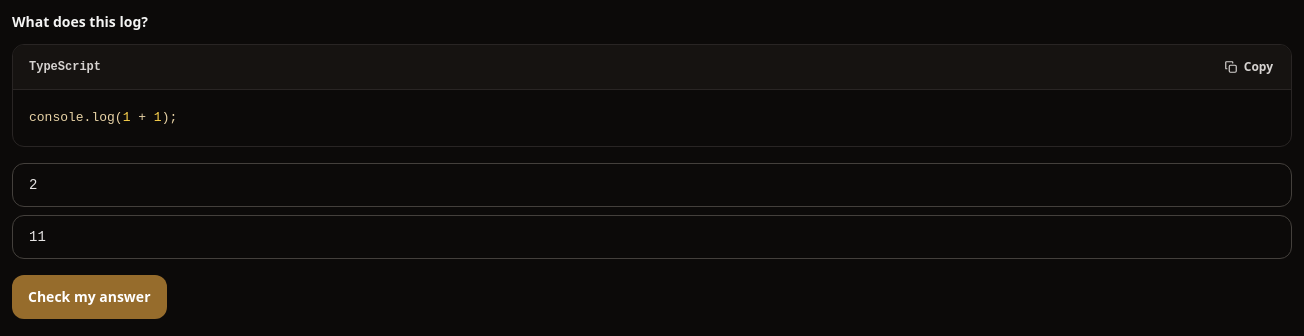
Test case: PredictOutputComponent › clears the "pick an answer" message once something is chosen
Click the button "Check my answer" at coordinates (89, 297), box [12,275,166,319]
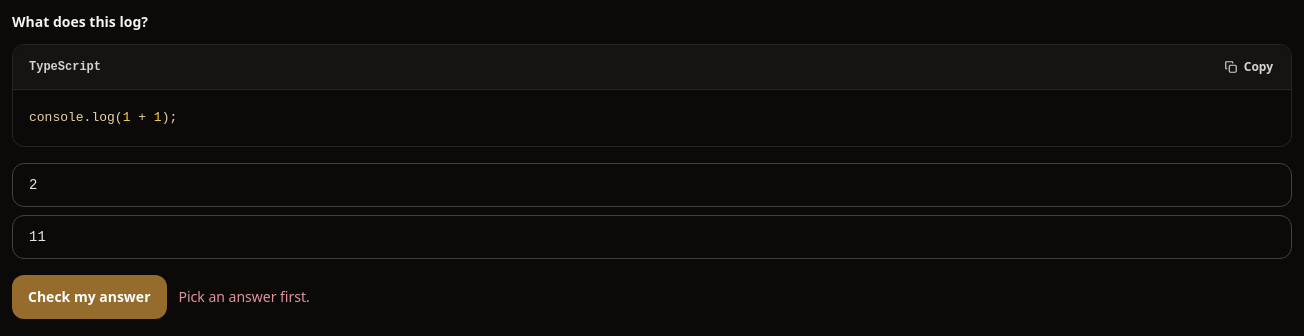
Click the radio button with test id "predict-option-a" at coordinates (33, 185), box [12,163,1292,207]
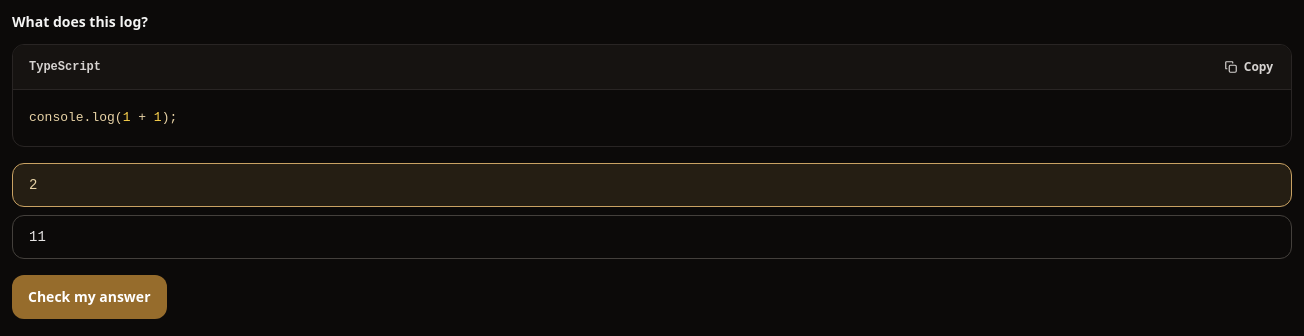
Now the message with test id "predict-error" is gone
